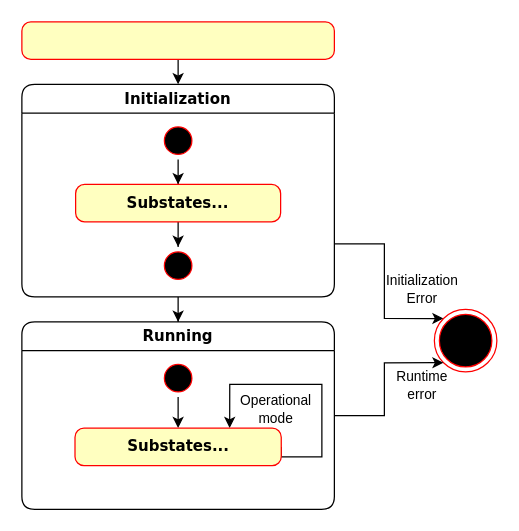
This 519x531 diagram has some shape labels left out. Here are the shapes that lost their labels. From the top down, the centre of each, then its label:
At (177,40): "Uninitialized".
At (465,340): "Error".
